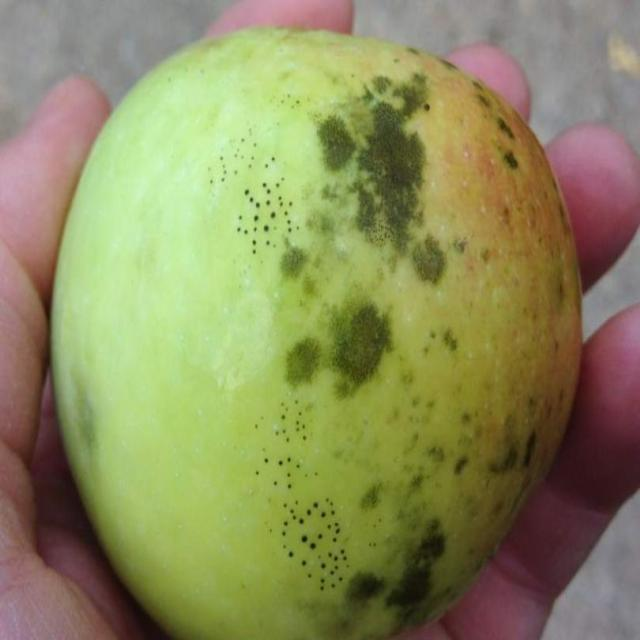Rotten Apple: (59, 11, 585, 624)
